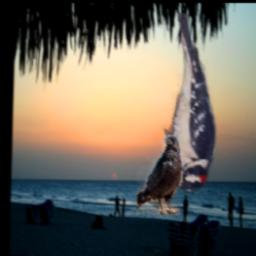Crow: (136, 136, 181, 216)
Woodpecker: (161, 13, 217, 195)
